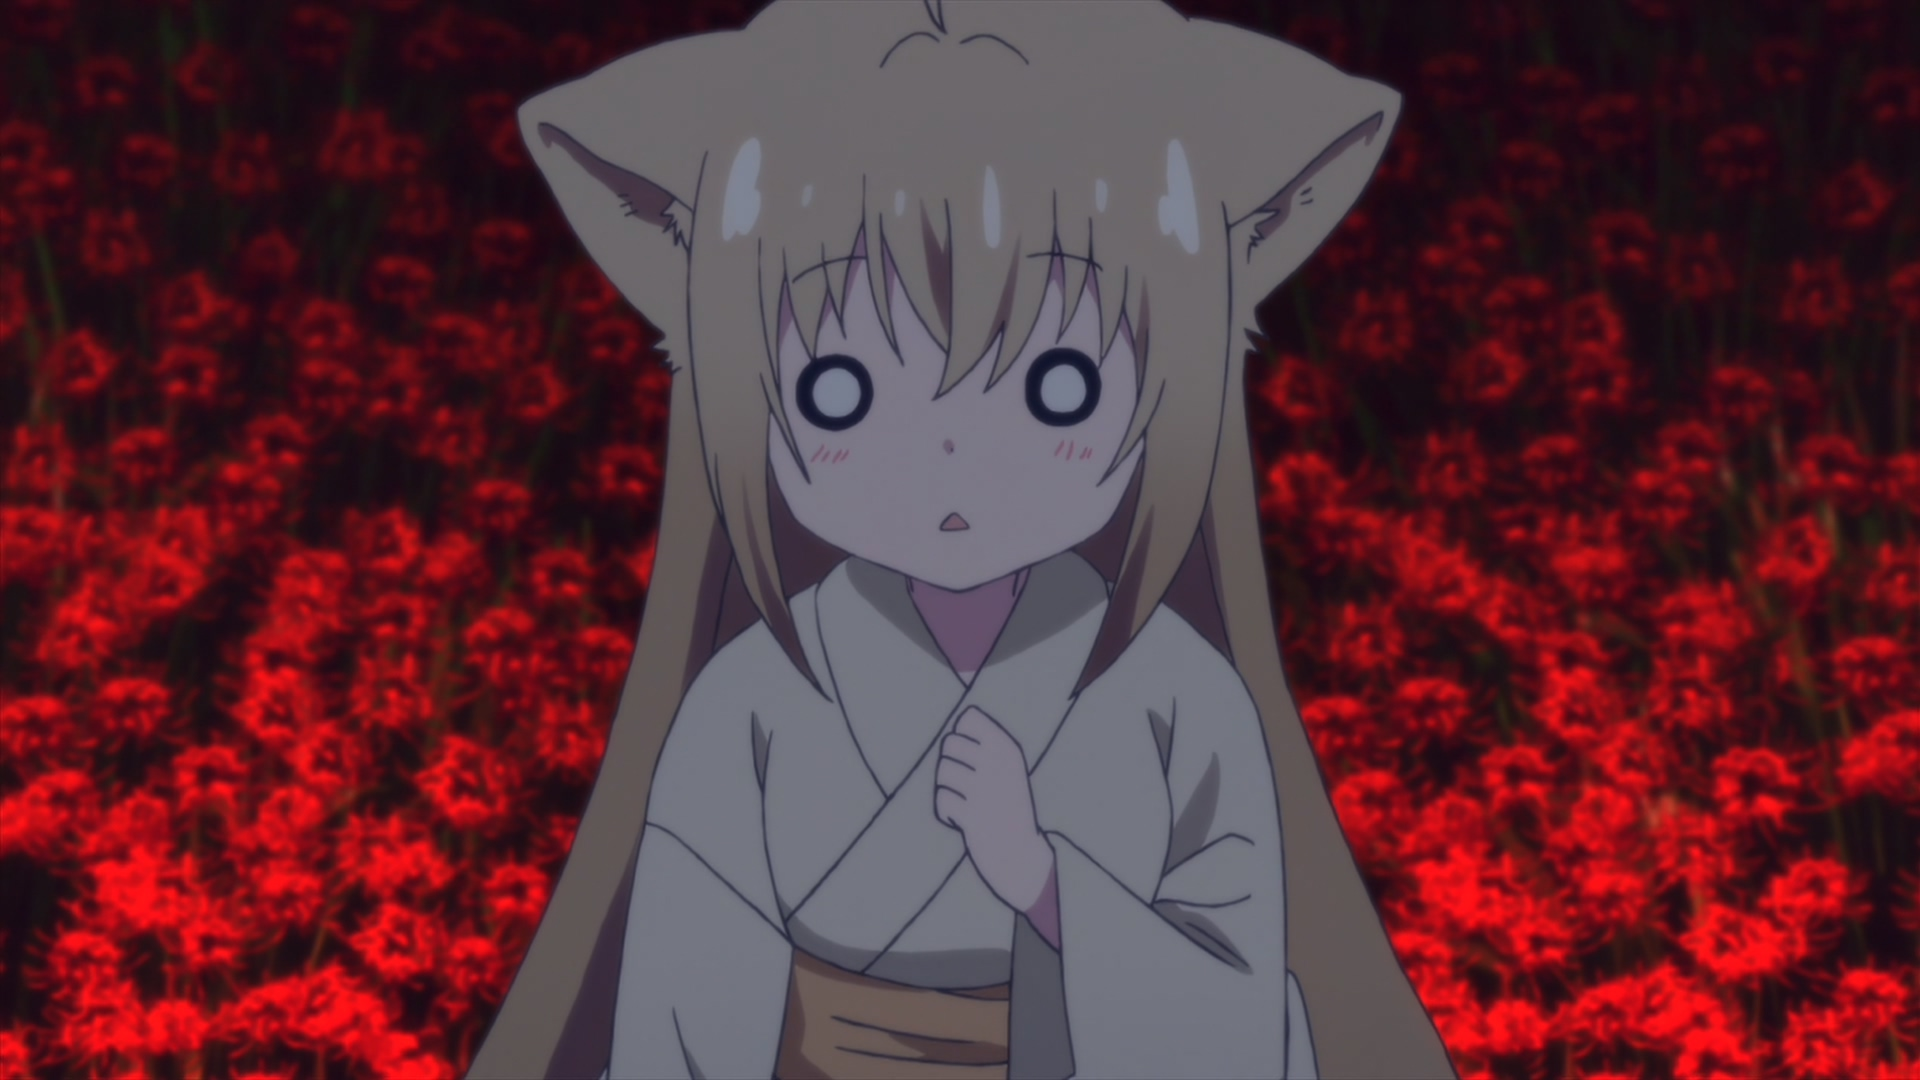柚: (462, 1, 1457, 1080)
